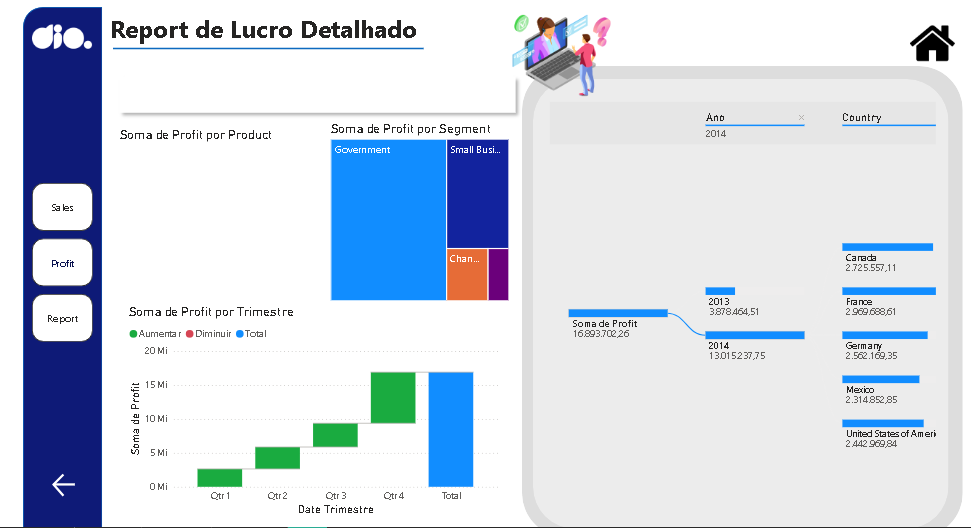

What the dashboard file says about the page in this screenshot:
{"tool":"powerbi","page":{"name":"Profit","canvas":[1280,720],"ordinal":1},"visuals":[{"type":"shape","box":[686.7,88.3,580,620],"z":1000},{"type":"shape","box":[701.7,105,546.7,591.7],"z":2000},{"type":"shape","box":[30,10,104.3,710],"z":3000},{"type":"textbox","box":[140,10,444,56],"z":4000},{"type":"shape","box":[148.8,52.5,408.8,25],"z":5000},{"type":"image","box":[42.3,10,79.2,77.7],"z":6000},{"type":"shape","box":[148.3,93.3,538.3,65],"z":7000},{"type":"RadarChart1446119667547","fields":{"Category":["financials.Product"],"Y":["Sum(financials.Profit)"]},"box":[152.9,168.6,301.4,230],"z":8000},{"type":"waterfallChart","fields":{"Category":["financials.Date.Variation.Hierarquia de datas.Trimestre"],"Y":["Sum(financials.Profit)"]},"box":[164.3,401.4,495.7,282.9],"z":9000},{"type":"treemap","fields":{"Values":["Sum(financials.Profit)"],"Group":["financials.Segment"]},"box":[430,160,244.3,241.4],"z":10000},{"type":"decompositionTreeVisual","fields":{"ExplainBy":["financials.Date.Variation.Hierarquia de datas.Ano","financials.Country"],"Analyze":["Sum(financials.Profit)"]},"box":[718.3,130,518.3,543.3],"z":11000},{"type":"ChicletSlicer1448559807354","fields":{"Category":["financials.Date.Variation.Hierarquia de datas.Ano"]},"box":[165,93.3,510,51.7],"z":12000},{"type":"actionButton","box":[64,620,44,40],"z":13000},{"type":"pageNavigator","box":[41.7,241.7,80,211.7],"z":14000},{"type":"image","box":[1197.3,27.4,58.9,60.3],"z":15000},{"type":"actionButton","box":[1197.3,27.4,58.9,60.3],"z":16000},{"type":"image","box":[660.8,9.5,156.8,129.7],"z":16500}]}

Visuals, with their boxes on the page's 1280x720 design canvas (x1, y1, x2, y2). These are canvas units, not pixel positions in the 971x528 screenshot, which may show the page scaled, cropped or inside an application window:
shape: {"left": 687, "top": 88, "right": 1267, "bottom": 708}
shape: {"left": 702, "top": 105, "right": 1248, "bottom": 697}
shape: {"left": 30, "top": 10, "right": 134, "bottom": 720}
textbox: {"left": 140, "top": 10, "right": 584, "bottom": 66}
shape: {"left": 149, "top": 52, "right": 558, "bottom": 78}
image: {"left": 42, "top": 10, "right": 122, "bottom": 88}
shape: {"left": 148, "top": 93, "right": 687, "bottom": 158}
RadarChart1446119667547 - financials.Product x Sum(financials.Profit): {"left": 153, "top": 169, "right": 454, "bottom": 399}
waterfallChart - financials.Date.Variation.Hierarquia de datas.Trimestre x Sum(financials.Profit): {"left": 164, "top": 401, "right": 660, "bottom": 684}
treemap - Sum(financials.Profit) x financials.Segment: {"left": 430, "top": 160, "right": 674, "bottom": 401}
decompositionTreeVisual - financials.Date.Variation.Hierarquia de datas.Ano x financials.Country: {"left": 718, "top": 130, "right": 1237, "bottom": 673}
ChicletSlicer1448559807354 - financials.Date.Variation.Hierarquia de datas.Ano: {"left": 165, "top": 93, "right": 675, "bottom": 145}
actionButton: {"left": 64, "top": 620, "right": 108, "bottom": 660}
pageNavigator: {"left": 42, "top": 242, "right": 122, "bottom": 453}
image: {"left": 1197, "top": 27, "right": 1256, "bottom": 88}
actionButton: {"left": 1197, "top": 27, "right": 1256, "bottom": 88}
image: {"left": 661, "top": 10, "right": 818, "bottom": 139}
